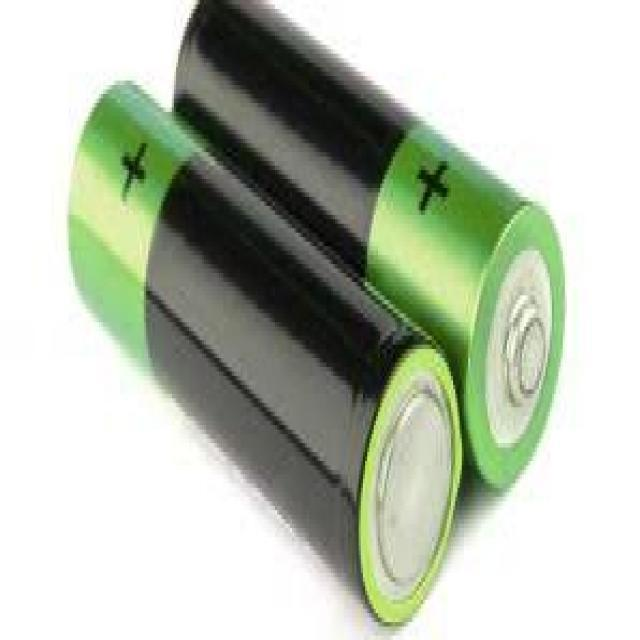battery: (62, 75, 463, 626), (172, 0, 568, 492)
